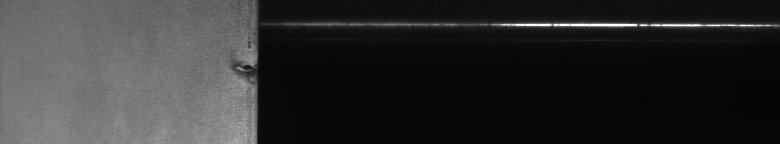hb: (225, 52, 248, 92)
